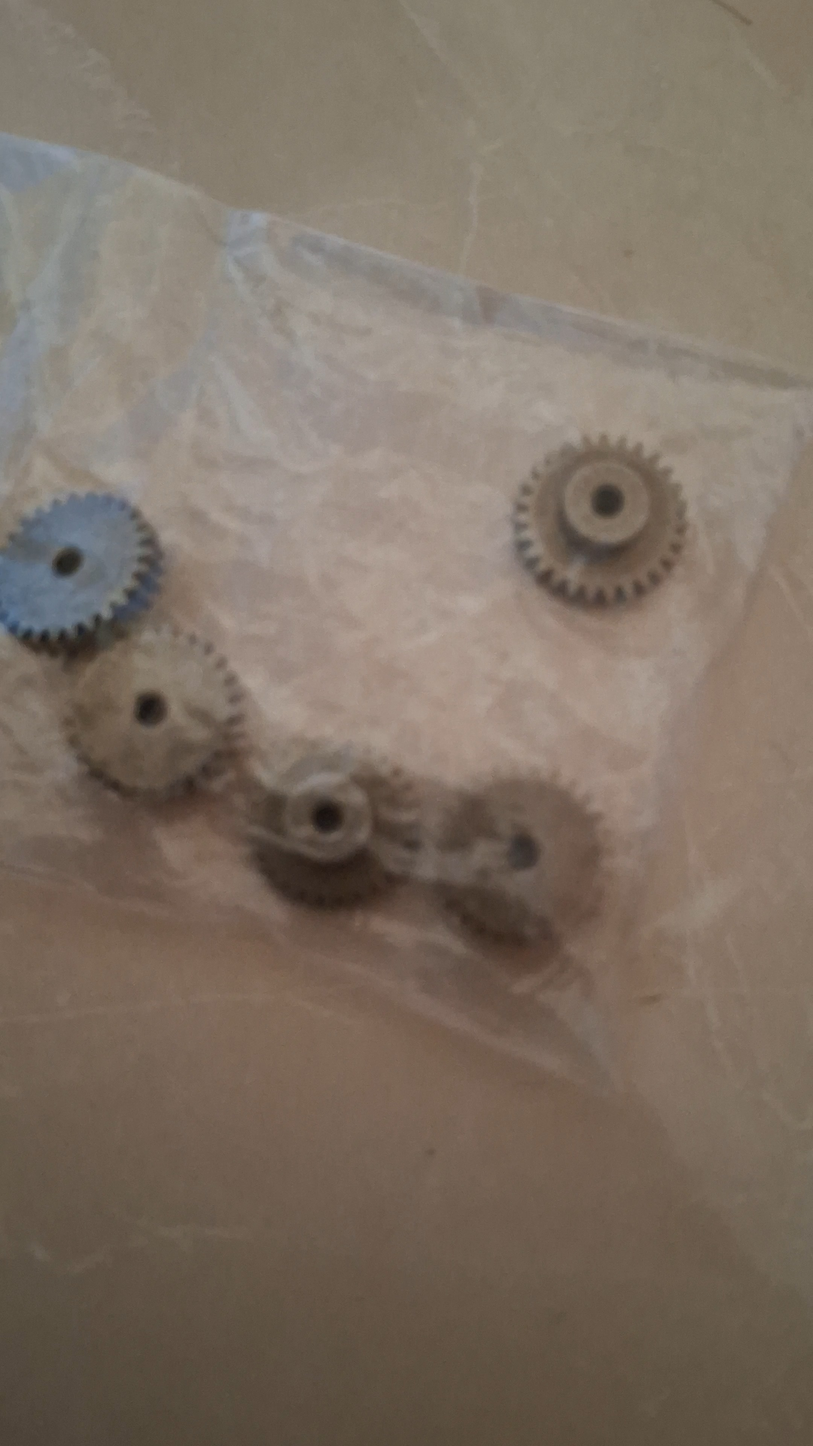spur gear: (68, 625, 242, 796), (514, 435, 687, 605), (247, 741, 419, 907), (434, 777, 601, 943), (0, 493, 162, 649)
